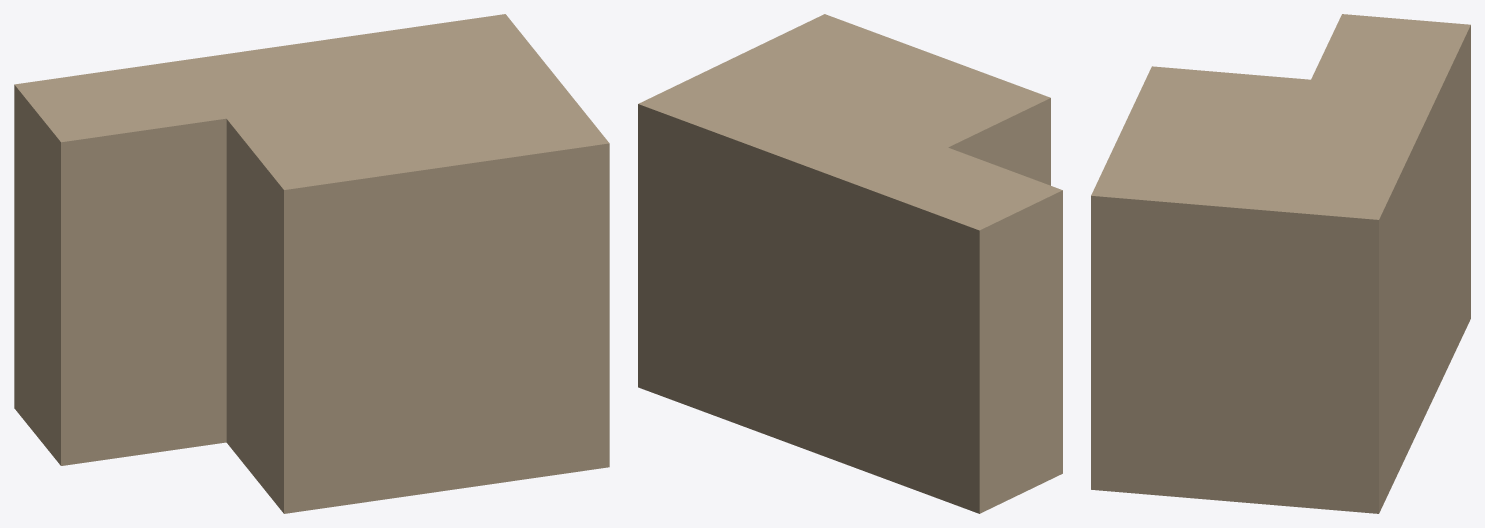
Rendered from bld_100469305.dae.
3 renders of one model, left to right at view 1: azimuth 30°, elevation 25°; view 2: azimuth 150°, elevation 25°; view 3: azimuth 270°, elevation 25°, orthographic. The views are drawn at different scales.
Parts seen in each view (by area): view 1: bld_100469305; view 2: bld_100469305; view 3: bld_100469305.
Part boxes in pixels (box(x1,y1,x2,y2)): bld_100469305: box(14, 14, 609, 513); bld_100469305: box(638, 14, 1062, 513); bld_100469305: box(1091, 14, 1470, 513).
Size of the model in its own units: 12.02 by 9.37 by 8.
